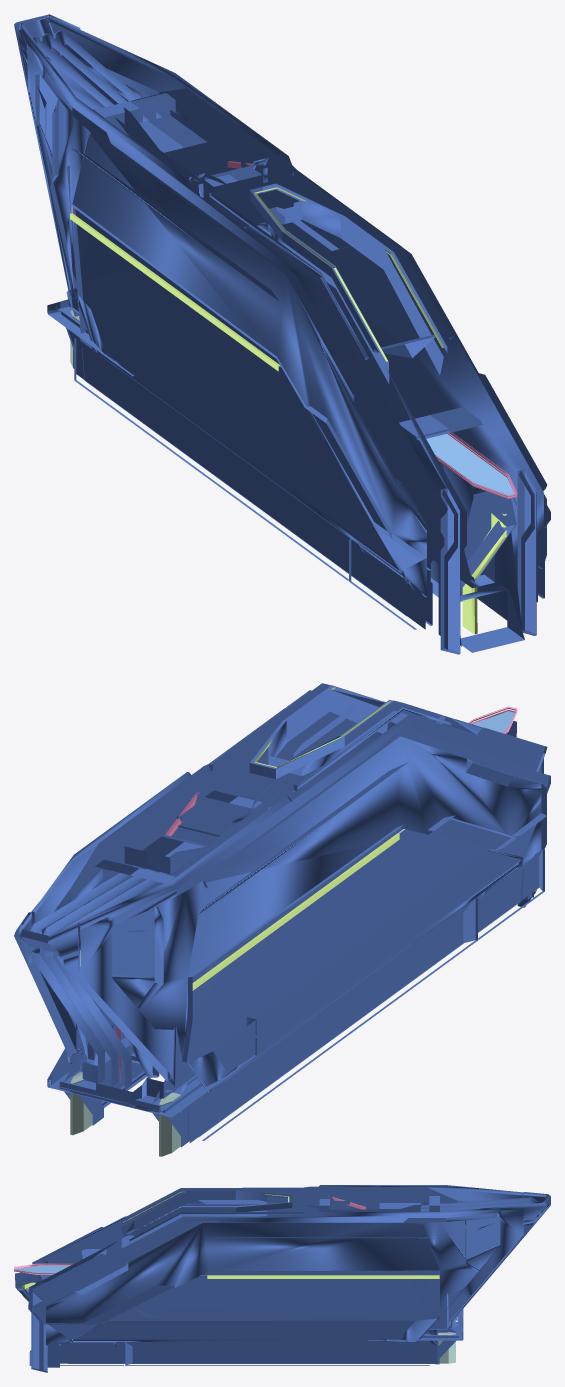
The model's file is prison_structure_a_lod2.glb.
3 views of the same model, one above another, from view 1: azimuth 30°, elevation 25°; view 2: azimuth 150°, elevation 25°; view 3: azimuth 270°, elevation 25° (orthographic). The views are drawn at different scales.
Bounding box in the file's own units: 59.17 × 127 × 378.
